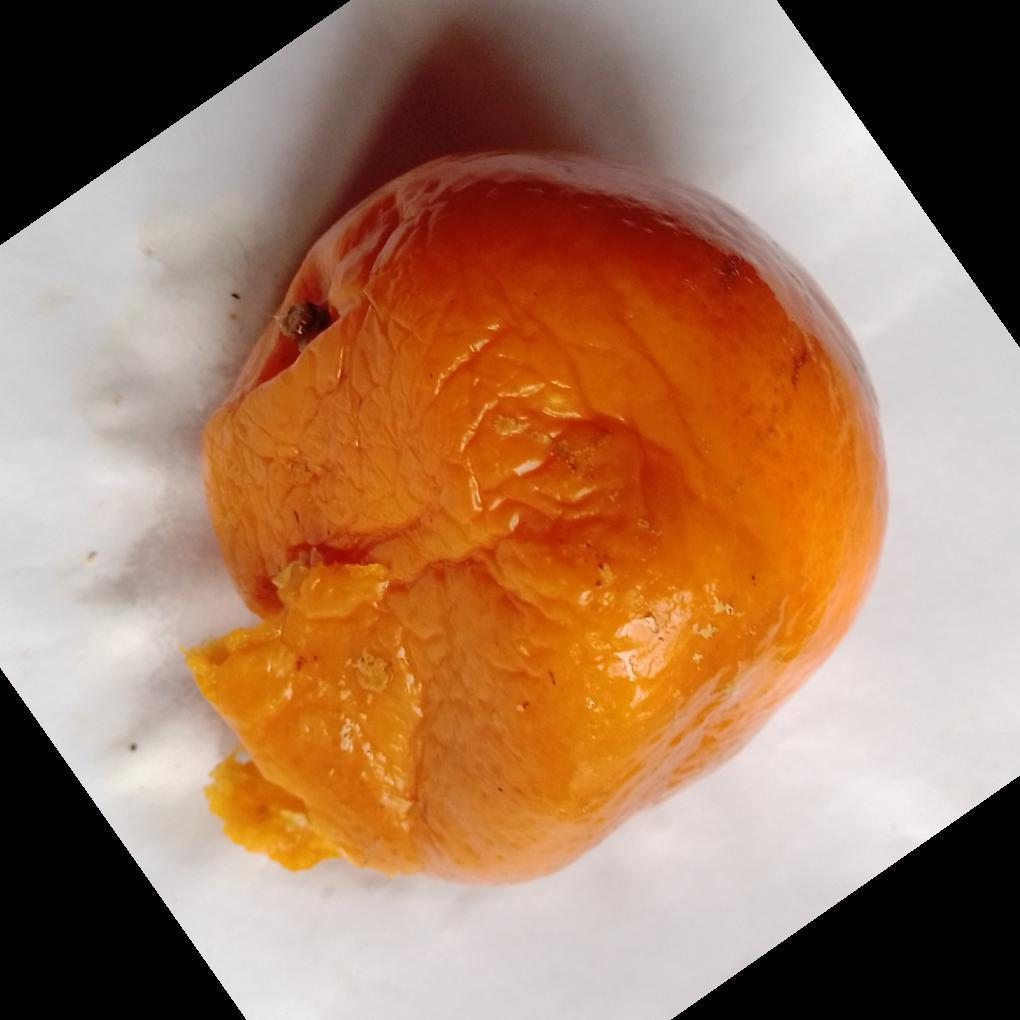FreshOrange: (179, 148, 891, 893)
